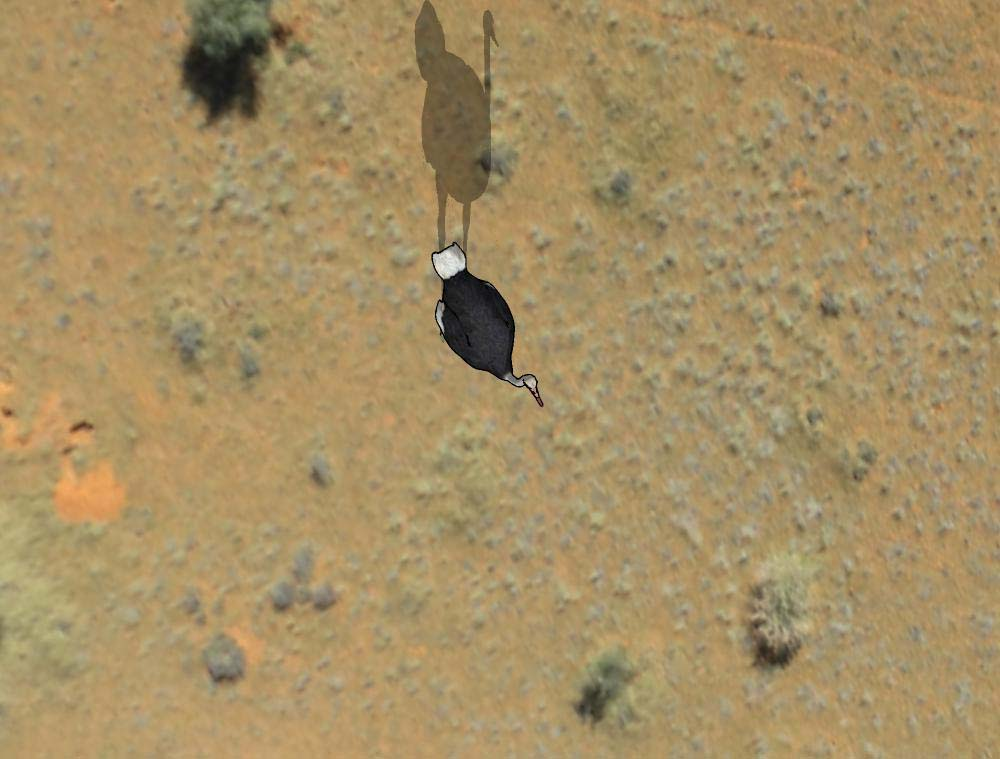springbok: (425, 241, 553, 418)
